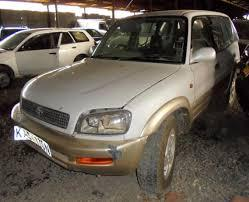front-bumper-dent: (8, 127, 108, 169)
